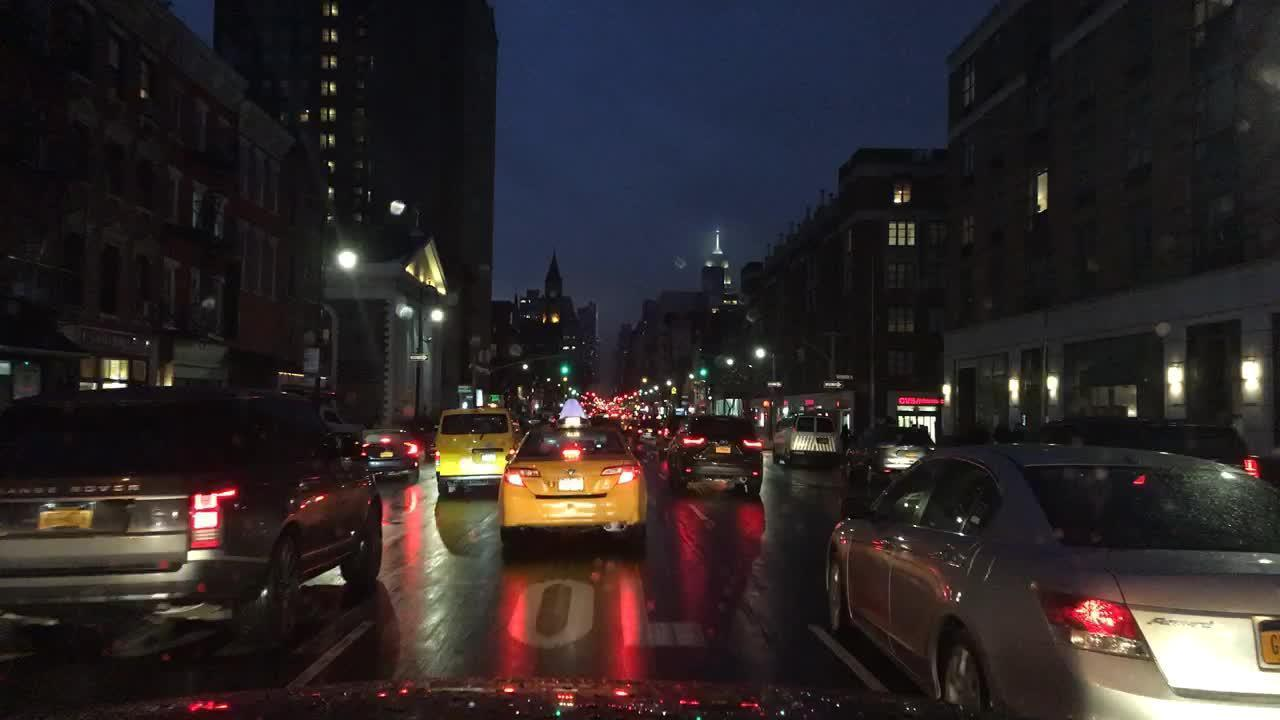range rover: (0, 469, 145, 503)
